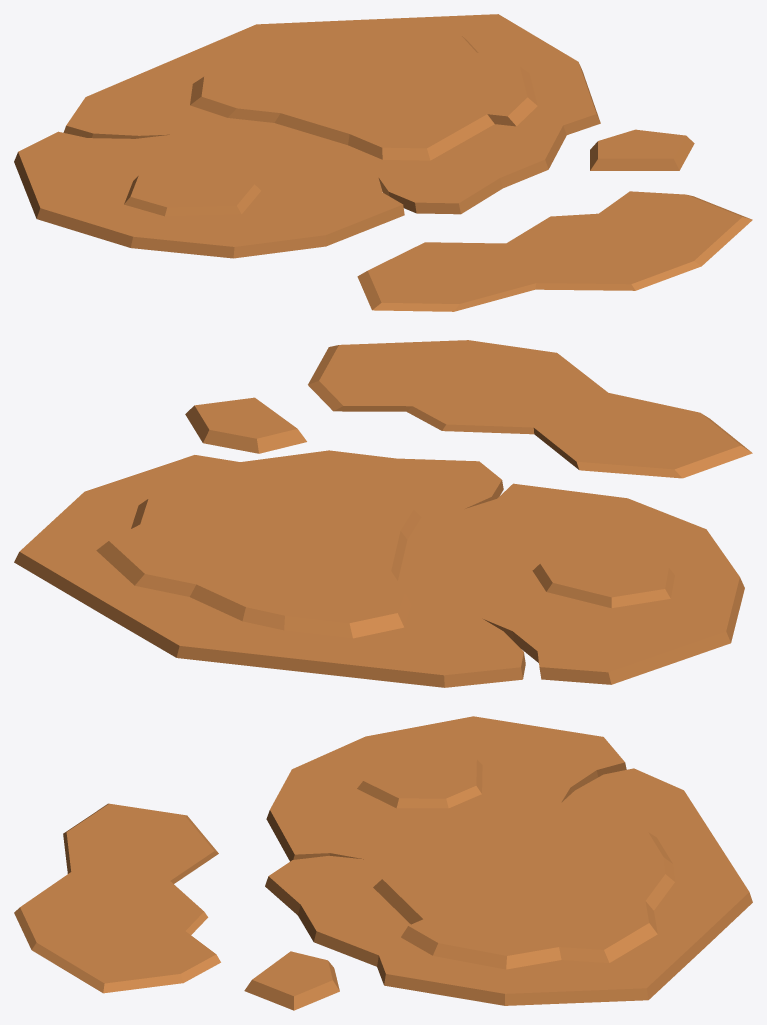
Rendered from RockThin_1.fbx.
The picture shows the model from 3 angles, top to bottom: view 1: azimuth 30°, elevation 25°; view 2: azimuth 150°, elevation 25°; view 3: azimuth 270°, elevation 25°; orthographic projection. The views are drawn at different scales.
Parts seen in each view (by area): view 1: 平面.054; view 2: 平面.054; view 3: 平面.054.
Boxes of the visible parts, left/top/right/bottom form: 平面.054: left=14, top=14, right=752, bottom=311; 平面.054: left=14, top=340, right=752, bottom=687; 平面.054: left=14, top=716, right=752, bottom=1010.
Bounding box in the file's own units: 1072 × 1169 × 33.14.
